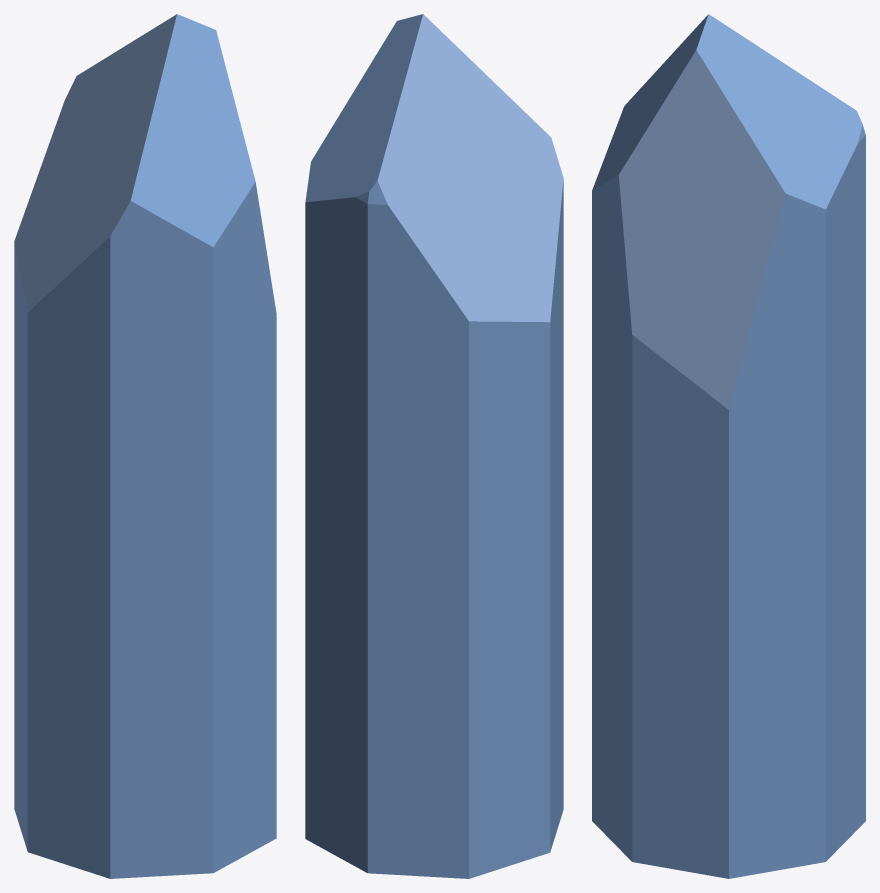
File: crystal_3.fbx
3 views of the same model, side by side, from view 1: azimuth 30°, elevation 25°; view 2: azimuth 150°, elevation 25°; view 3: azimuth 270°, elevation 25° (orthographic). The views are drawn at different scales.
Parts seen in each view (by area): view 1: crystal_3; view 2: crystal_3; view 3: crystal_3.
Part boxes in pixels (bbox=[...]): crystal_3: bbox=[14, 14, 276, 878]; crystal_3: bbox=[305, 14, 563, 878]; crystal_3: bbox=[592, 14, 865, 878].
Size of the model in its own units: 24.95 by 82.21 by 24.95.
